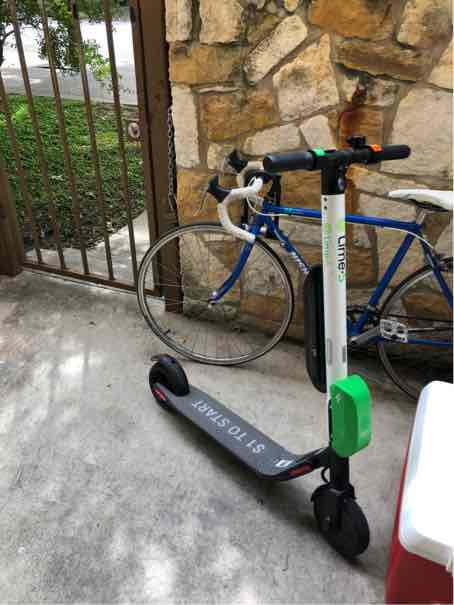scooter: (133, 110, 432, 587)
